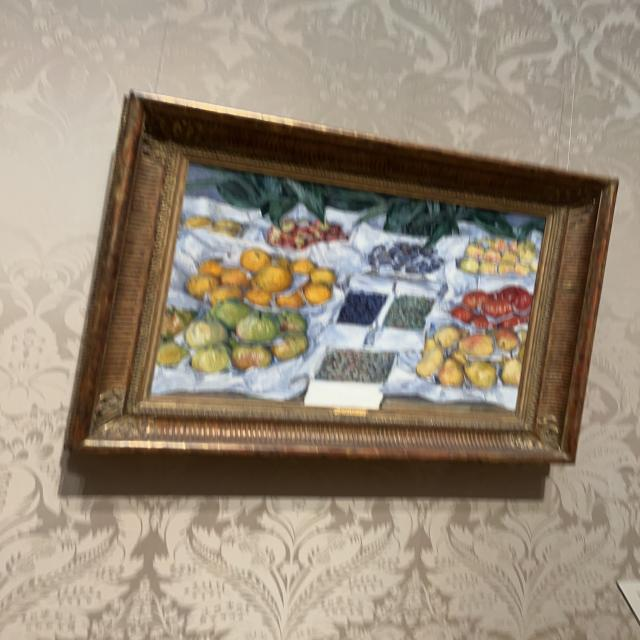fruits: (156, 170, 540, 410)
